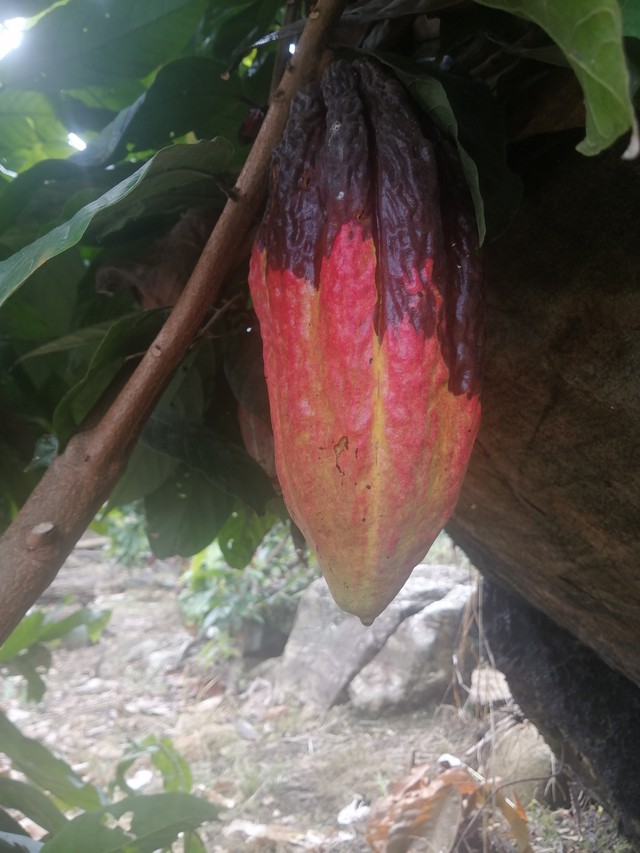phytophthora palmivora: (240, 37, 502, 629)
